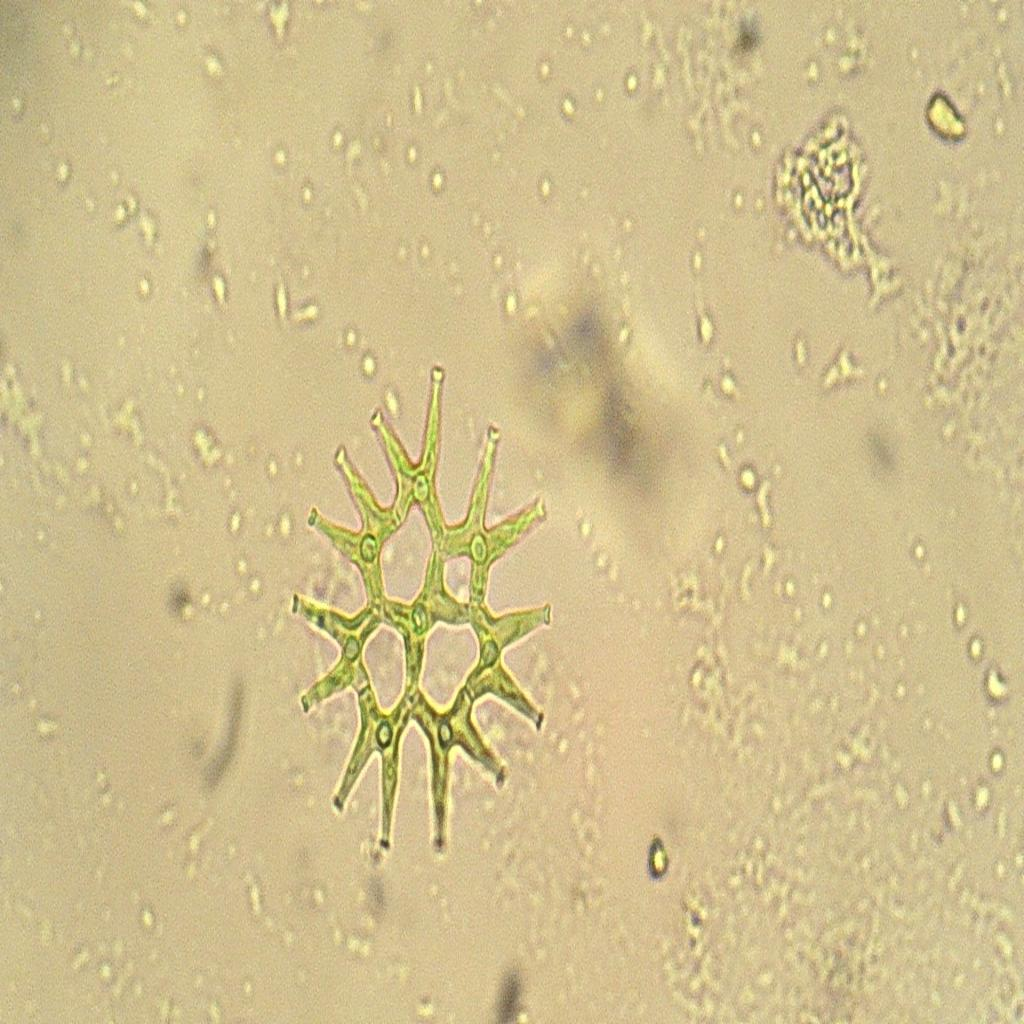Pediastrum_75T: (283, 330, 570, 891)
